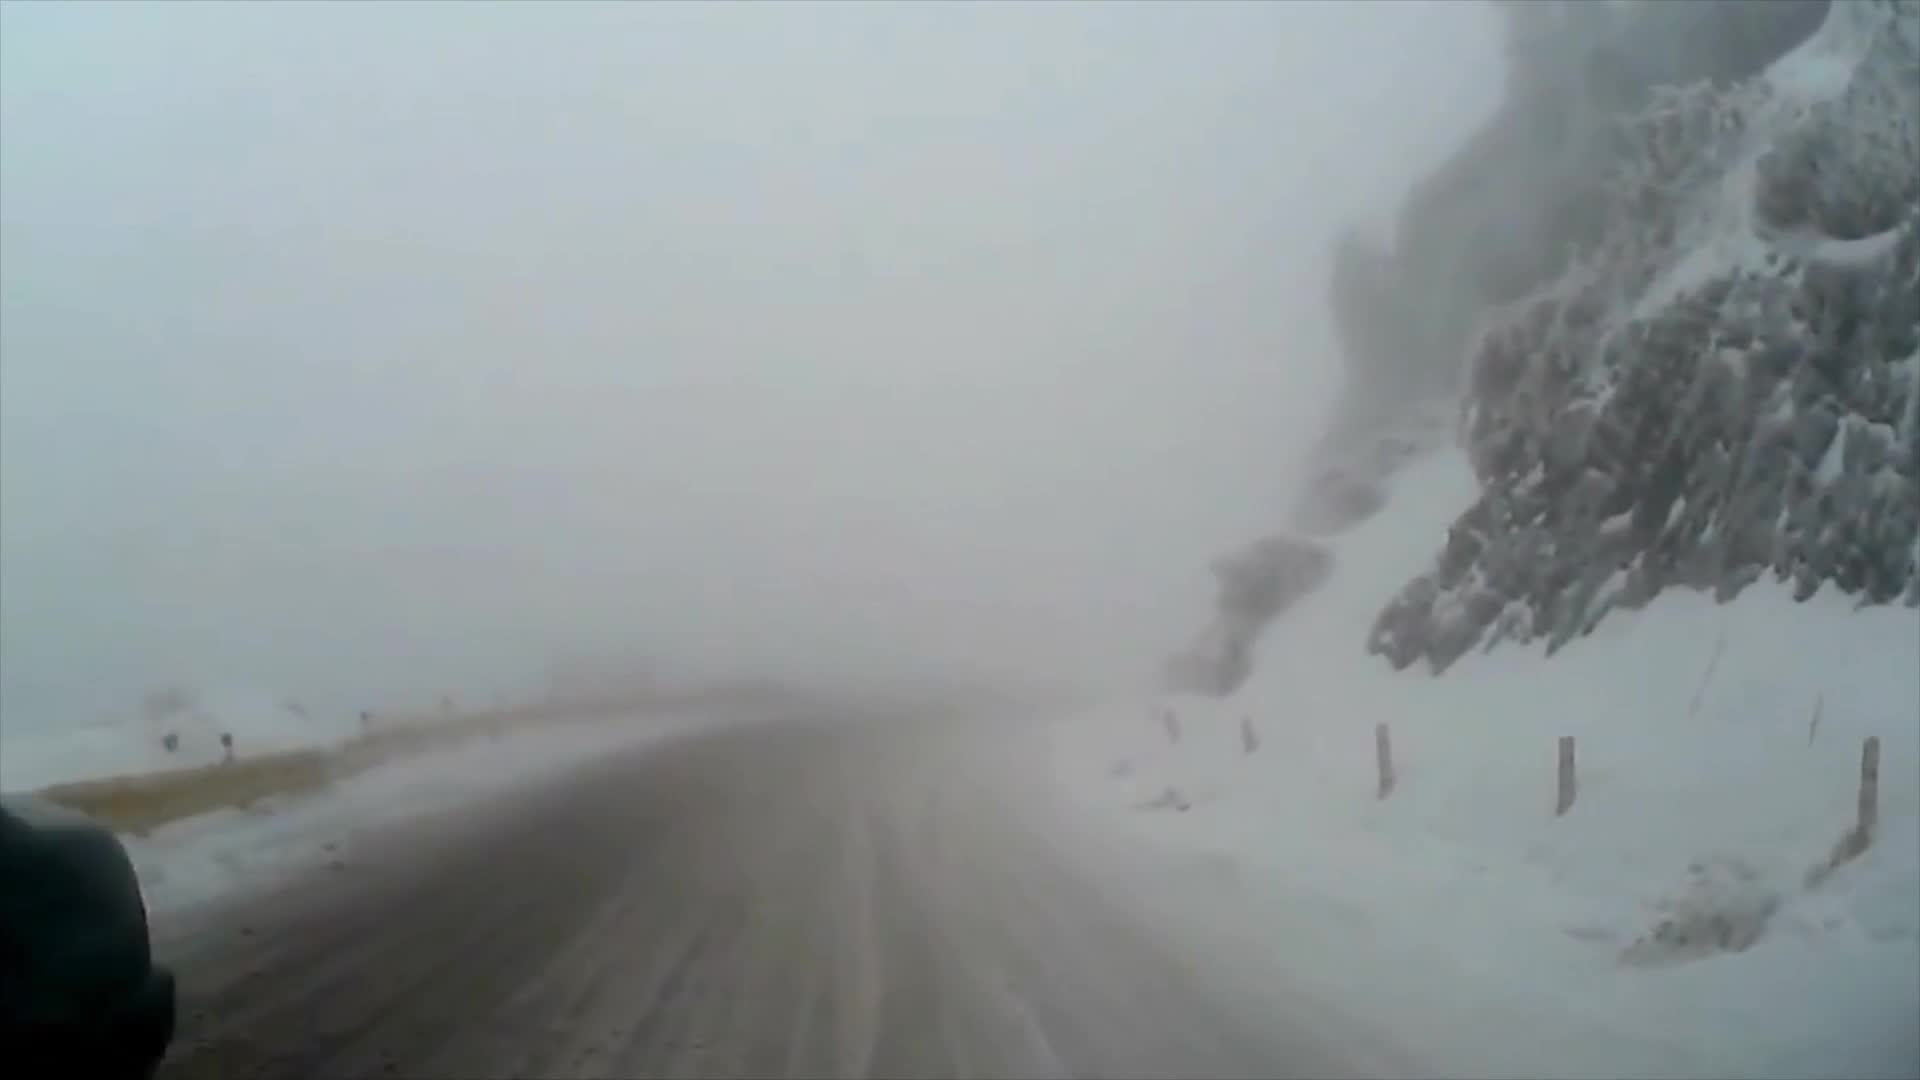vehicle: (0, 785, 174, 1077)
